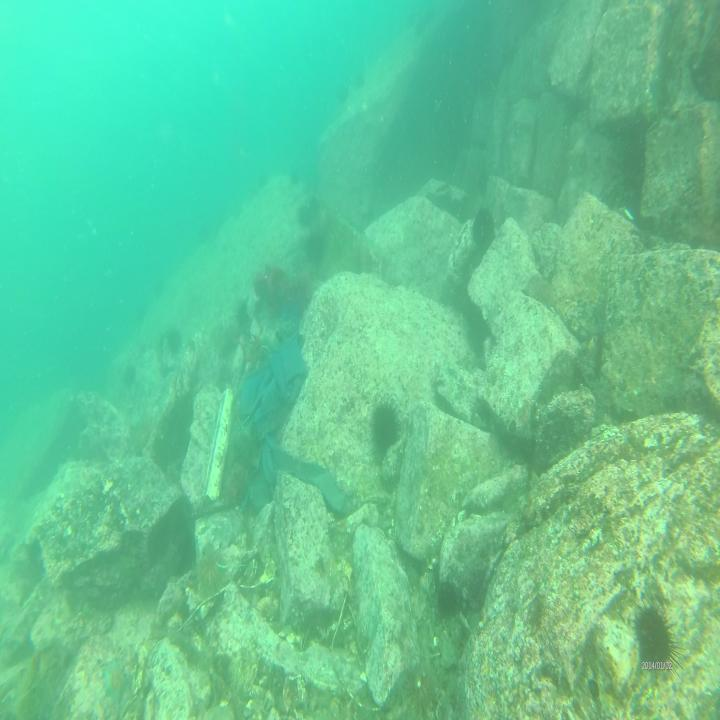echinus: (629, 593, 682, 682), (368, 396, 398, 456), (192, 545, 224, 600), (469, 204, 499, 254), (435, 576, 457, 616)
starfish: (99, 656, 131, 706)
